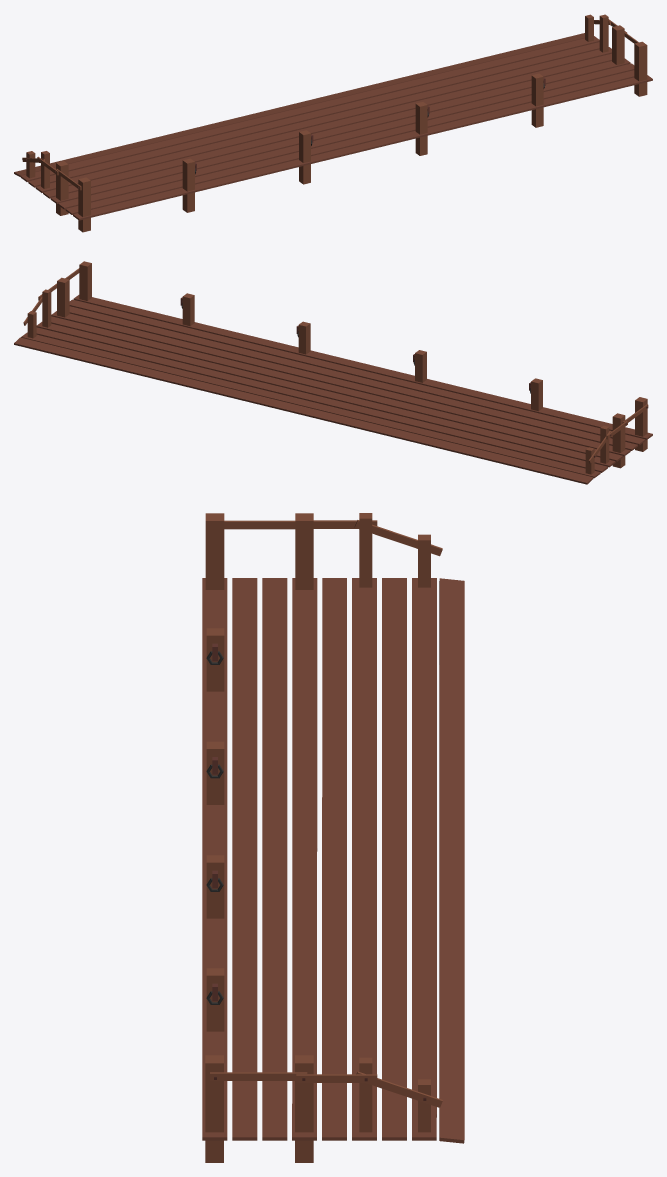
The model's file is landing_stage.fbx.
The picture shows the model from 3 angles, top to bottom: view 1: azimuth 30°, elevation 25°; view 2: azimuth 150°, elevation 25°; view 3: azimuth 270°, elevation 25°; orthographic projection. The views are drawn at different scales.
Visible parts, largest first — view 1: pier, pier railings, pier railings 2, pier railings.002, pier railings.004, pier railings.005, pier railings.003; view 2: pier, pier railings, pier railings 2, pier railings.004, pier railings.005, pier railings.003, pier railings.002; view 3: pier, pier railings 2, pier railings, pier railings.002, pier railings.004, pier railings.005, pier railings.003.
Boxes of the visible parts, x1=… form: pier: x1=14, y1=33, x2=652, y2=220; pier railings: x1=22, y1=151, x2=90, y2=232; pier railings 2: x1=585, y1=14, x2=647, y2=96; pier railings.002: x1=182, y1=158, x2=196, y2=212; pier railings.004: x1=415, y1=102, x2=429, y2=155; pier railings.005: x1=531, y1=73, x2=545, y2=127; pier railings.003: x1=299, y1=130, x2=313, y2=184; pier: x1=14, y1=295, x2=652, y2=484; pier railings: x1=585, y1=397, x2=648, y2=474; pier railings 2: x1=23, y1=261, x2=91, y2=338; pier railings.004: x1=296, y1=321, x2=310, y2=354; pier railings.005: x1=180, y1=293, x2=194, y2=326; pier railings.003: x1=413, y1=350, x2=426, y2=382; pier railings.002: x1=529, y1=378, x2=542, y2=411; pier: x1=202, y1=578, x2=464, y2=1143; pier railings 2: x1=205, y1=1055, x2=442, y2=1162; pier railings: x1=205, y1=513, x2=442, y2=589; pier railings.002: x1=206, y1=628, x2=224, y2=691; pier railings.004: x1=206, y1=855, x2=224, y2=918; pier railings.005: x1=206, y1=968, x2=224, y2=1031; pier railings.003: x1=206, y1=741, x2=224, y2=804.
Bounding box in the file's own units: 987 × 92 × 195.
